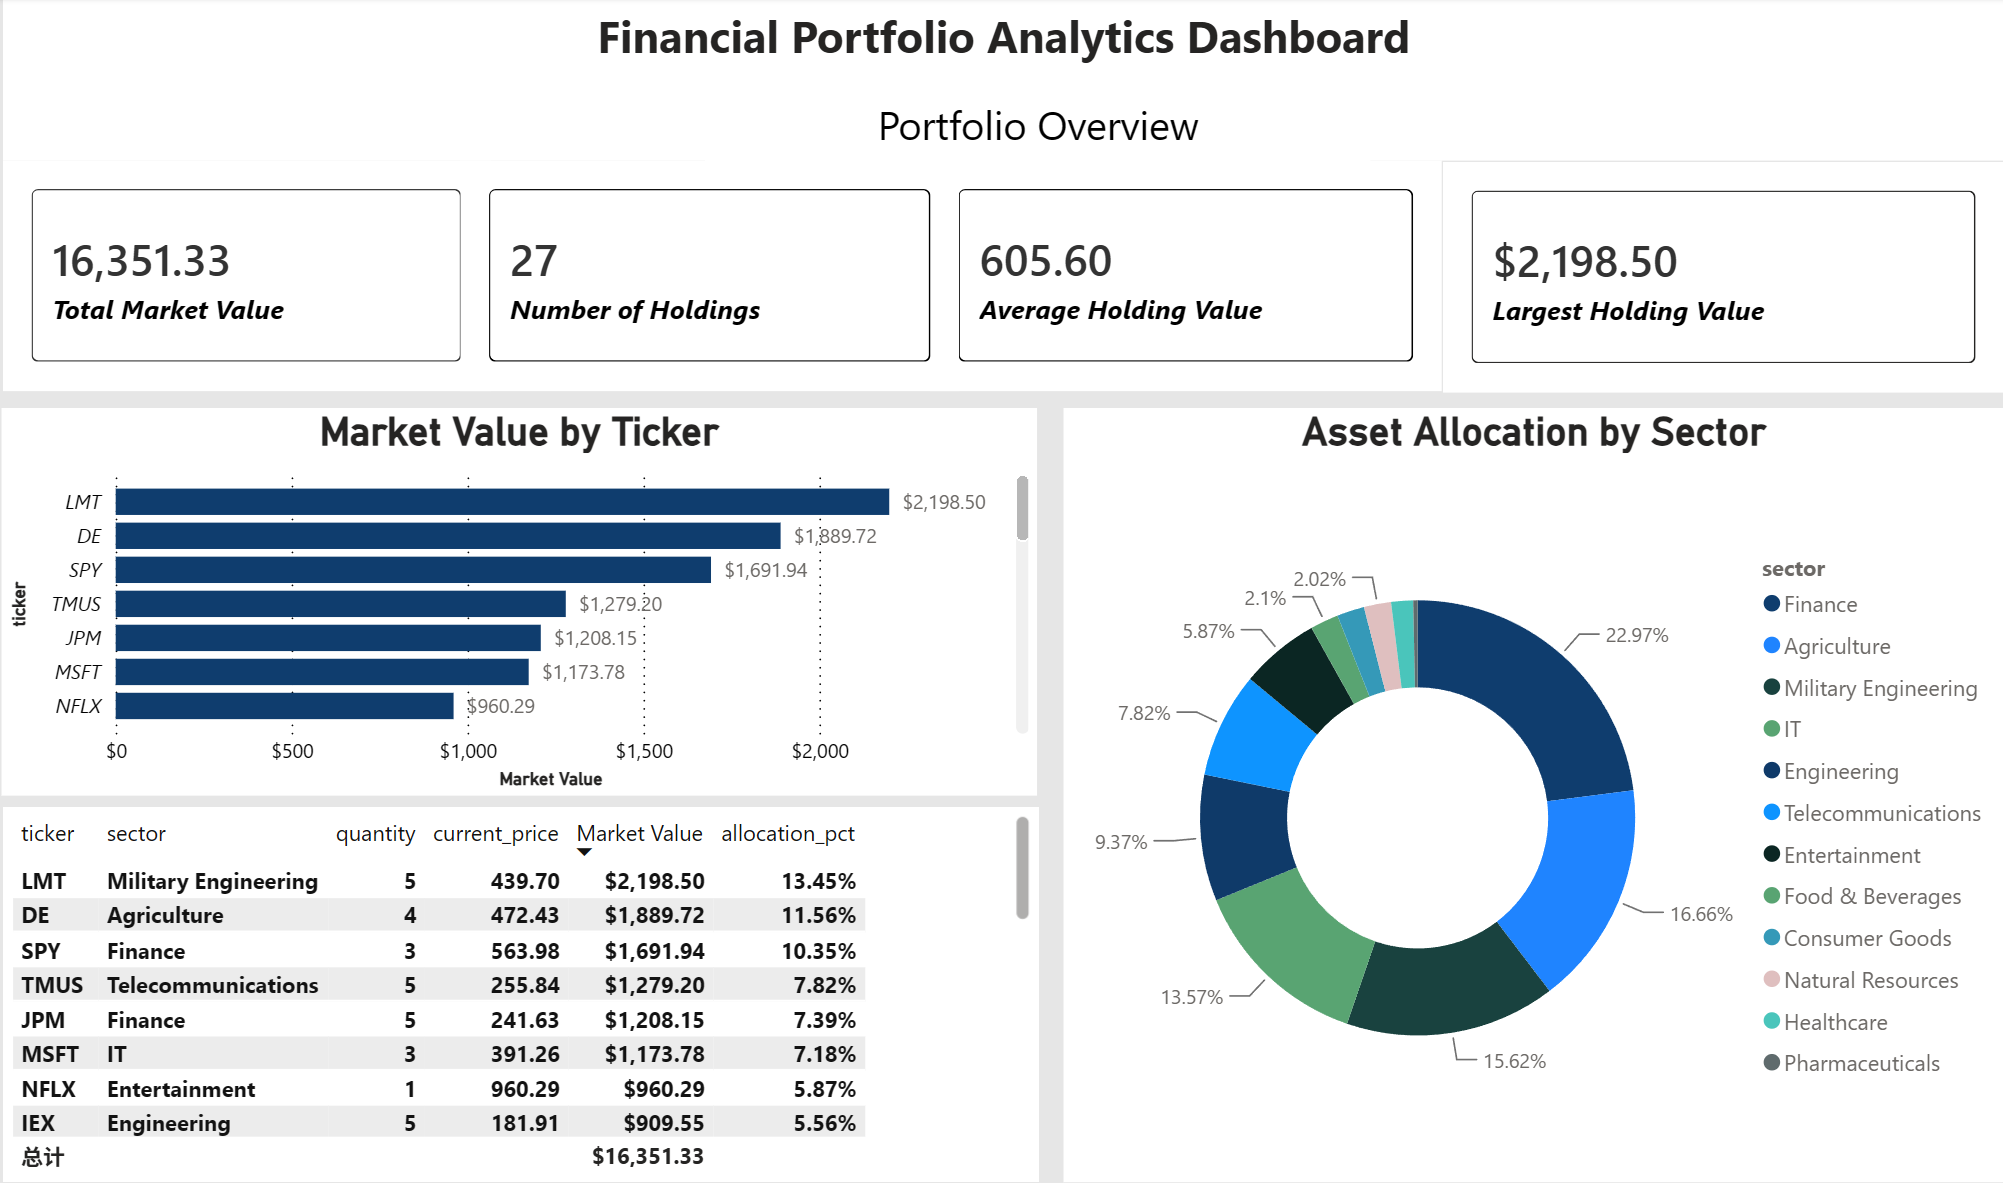

Layout of this report page (visuals, bound fields, positions):
{"tool":"powerbi","page":{"name":"Portfolio Overview","canvas":[1280,720],"ordinal":0},"visuals":[{"type":"textbox","box":[47.3,0,1215,99.6],"z":0},{"type":"textbox","box":[473.7,55.3,404.3,62.4],"z":1000},{"type":"cardVisual","fields":{"Data":["portfolio_summary.Total Market Value"]},"box":[47.3,99.6,295.7,139.8],"z":2000},{"type":"cardVisual","fields":{"Data":["portfolio_summary.Average Holding Value"]},"box":[610.5,99.6,310.8,139.8],"z":3000},{"type":"cardVisual","fields":{"Data":["portfolio_summary.Number of Holdings"]},"box":[324.9,99.6,302.7,139.8],"z":4000},{"type":"cardVisual","fields":{"Data":["portfolio_summary.Largest Holding Value"]},"box":[921.3,100.6,341,139.8],"z":5000},{"type":"barChart","title":"Market Value by Ticker","fields":{"Category":["portfolio_summary.ticker"],"Y":["portfolio_summary.Market Value"]},"box":[46.3,249.4,628.6,235.4],"z":6000},{"type":"donutChart","title":"Asset Allocation by Sector","fields":{"Category":["portfolio_summary.sector"],"Y":["portfolio_summary.Market Value"]},"box":[691,249.4,571.3,469.7],"z":7000},{"type":"tableEx","fields":{"Values":["portfolio_summary.ticker","portfolio_summary.sector","portfolio_summary.quantity","portfolio_summary.current_price","portfolio_summary.Market Value","portfolio_summary.allocation_pct"]},"box":[47.3,491.8,628.6,227.3],"z":8000}]}

Visuals, with their boxes on the page's 1280x720 design canvas (x1, y1, x2, y2). These are canvas units, not pixel positions in the 2003x1183 screenshot, which may show the page scaled, cropped or inside an application window:
textbox: pyautogui.locateOnScreen(47, 0, 1262, 100)
textbox: pyautogui.locateOnScreen(474, 55, 878, 118)
cardVisual - portfolio_summary.Total Market Value: pyautogui.locateOnScreen(47, 100, 343, 239)
cardVisual - portfolio_summary.Average Holding Value: pyautogui.locateOnScreen(610, 100, 921, 239)
cardVisual - portfolio_summary.Number of Holdings: pyautogui.locateOnScreen(325, 100, 628, 239)
cardVisual - portfolio_summary.Largest Holding Value: pyautogui.locateOnScreen(921, 101, 1262, 240)
"Market Value by Ticker" barChart: pyautogui.locateOnScreen(46, 249, 675, 485)
"Asset Allocation by Sector" donutChart: pyautogui.locateOnScreen(691, 249, 1262, 719)
tableEx - portfolio_summary.ticker x portfolio_summary.sector: pyautogui.locateOnScreen(47, 492, 676, 719)
